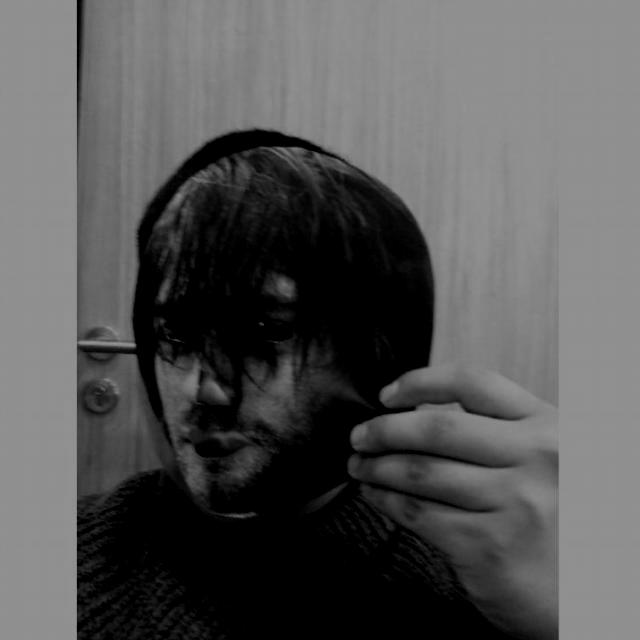fake: (130, 144, 452, 516)
